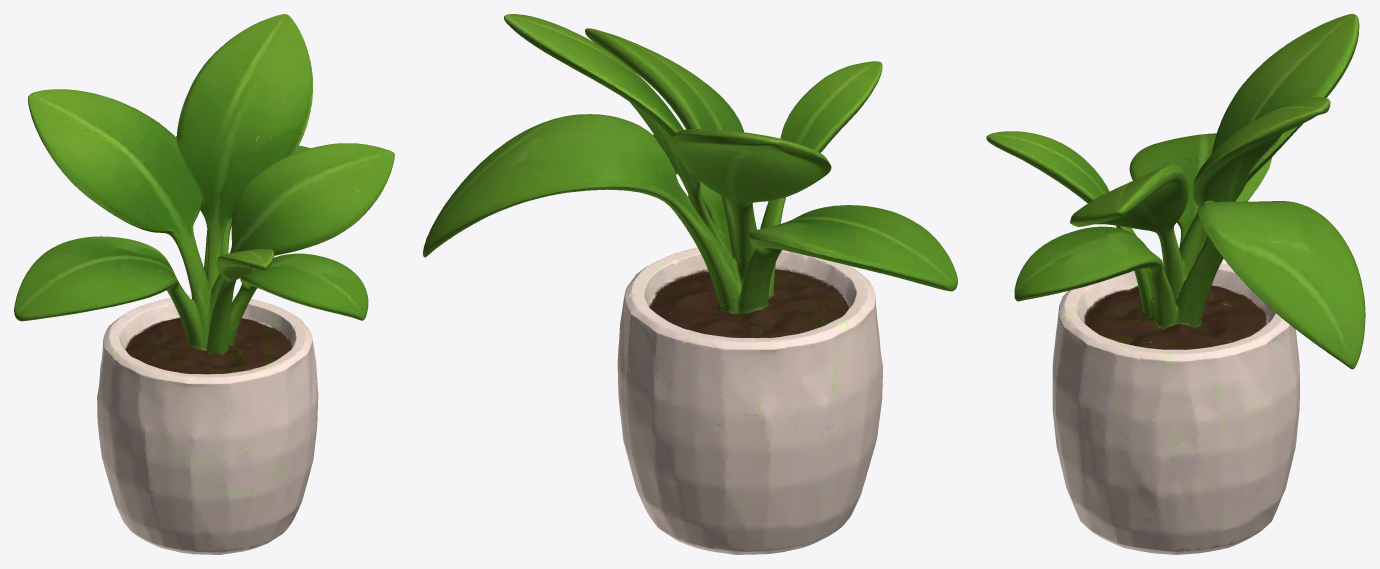
The model's file is plant.glb.
The picture shows the model from 3 angles, left to right: view 1: azimuth 30°, elevation 25°; view 2: azimuth 150°, elevation 25°; view 3: azimuth 270°, elevation 25°; orthographic projection. The views are drawn at different scales.
Parts seen in each view (by area): view 1: mesh_0; view 2: mesh_0; view 3: mesh_0.
Part boxes in pixels (<box>): mesh_0: <box>14,14,394,554</box>; mesh_0: <box>423,14,957,554</box>; mesh_0: <box>986,14,1365,554</box>.
Size of the model in its own units: 1.75 by 1.9 by 1.34.
Materials: 1 (1 with a texture image).
